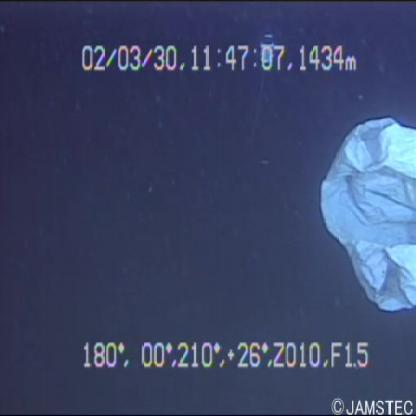Rác: (306, 91, 416, 320)
